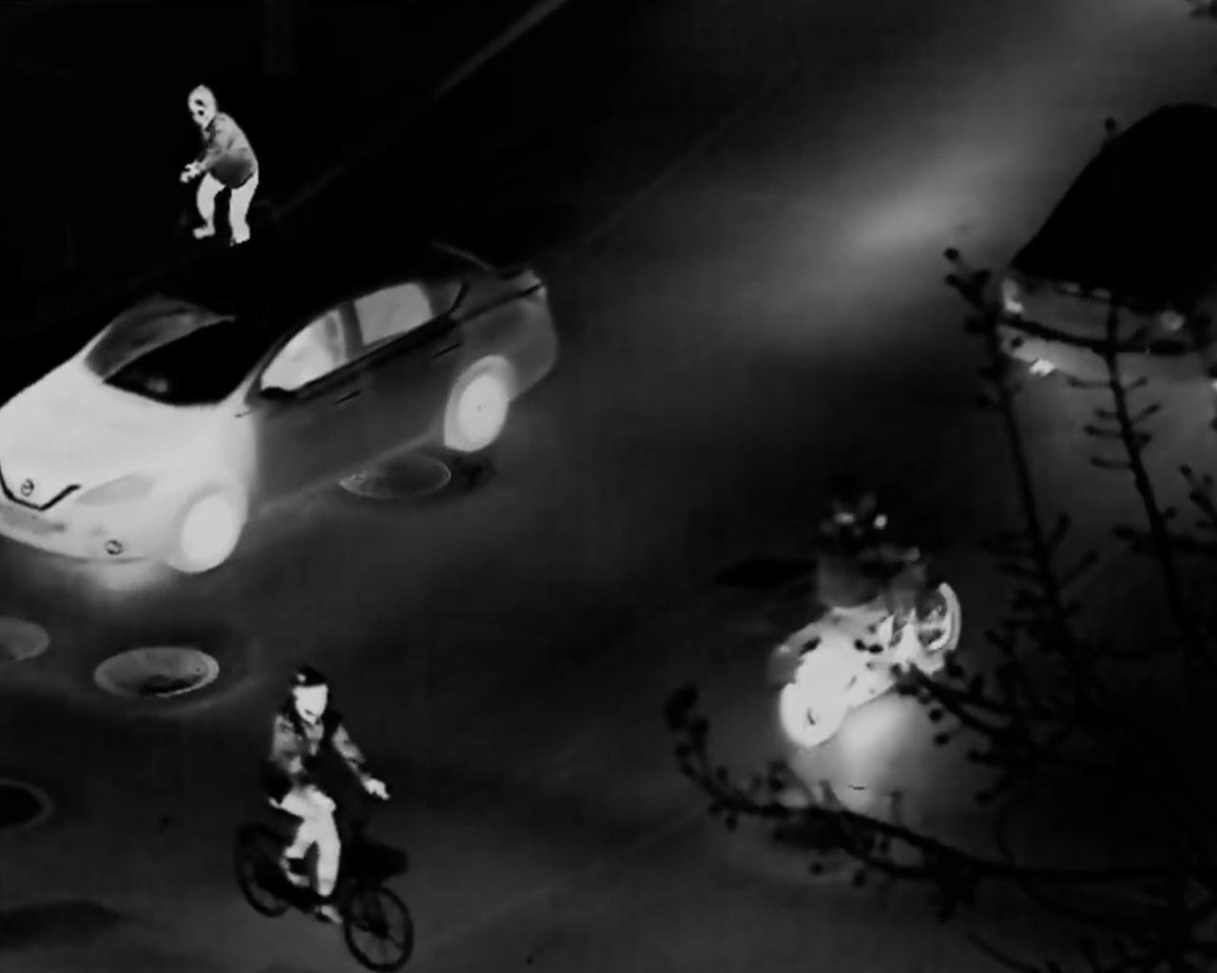person: (280, 672, 371, 909), (811, 486, 945, 643), (175, 82, 273, 246)
